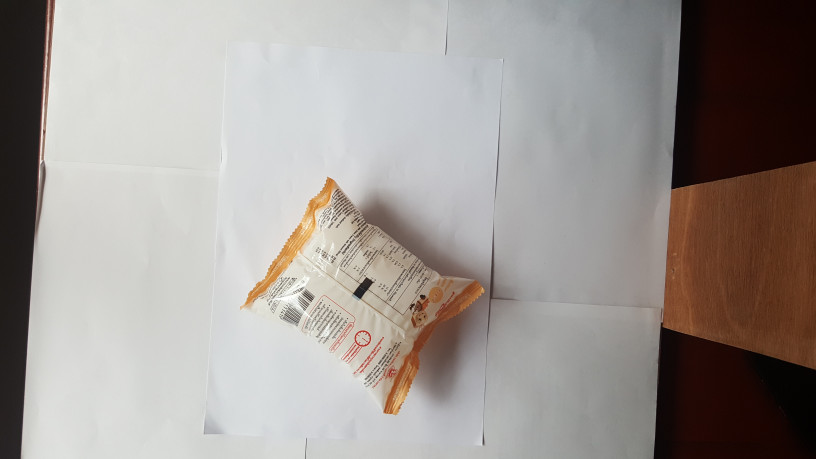farmhouse-sweetsandwich-almond: (229, 167, 491, 424)
